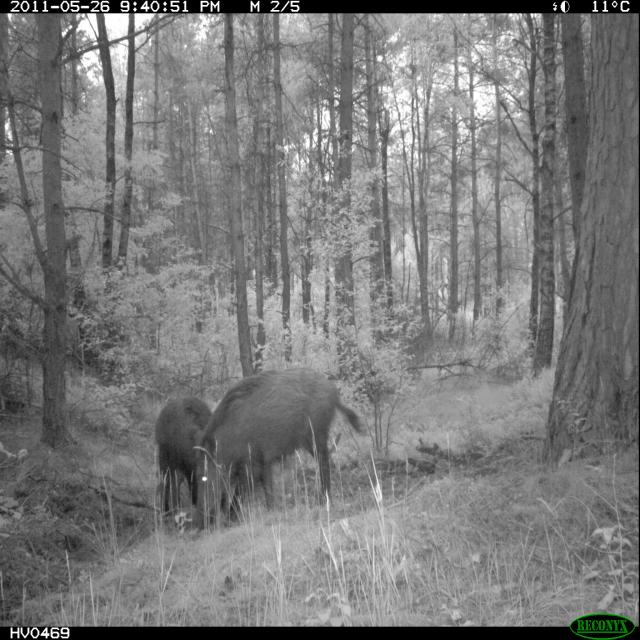boar: (172, 351, 370, 530), (142, 367, 291, 528)
